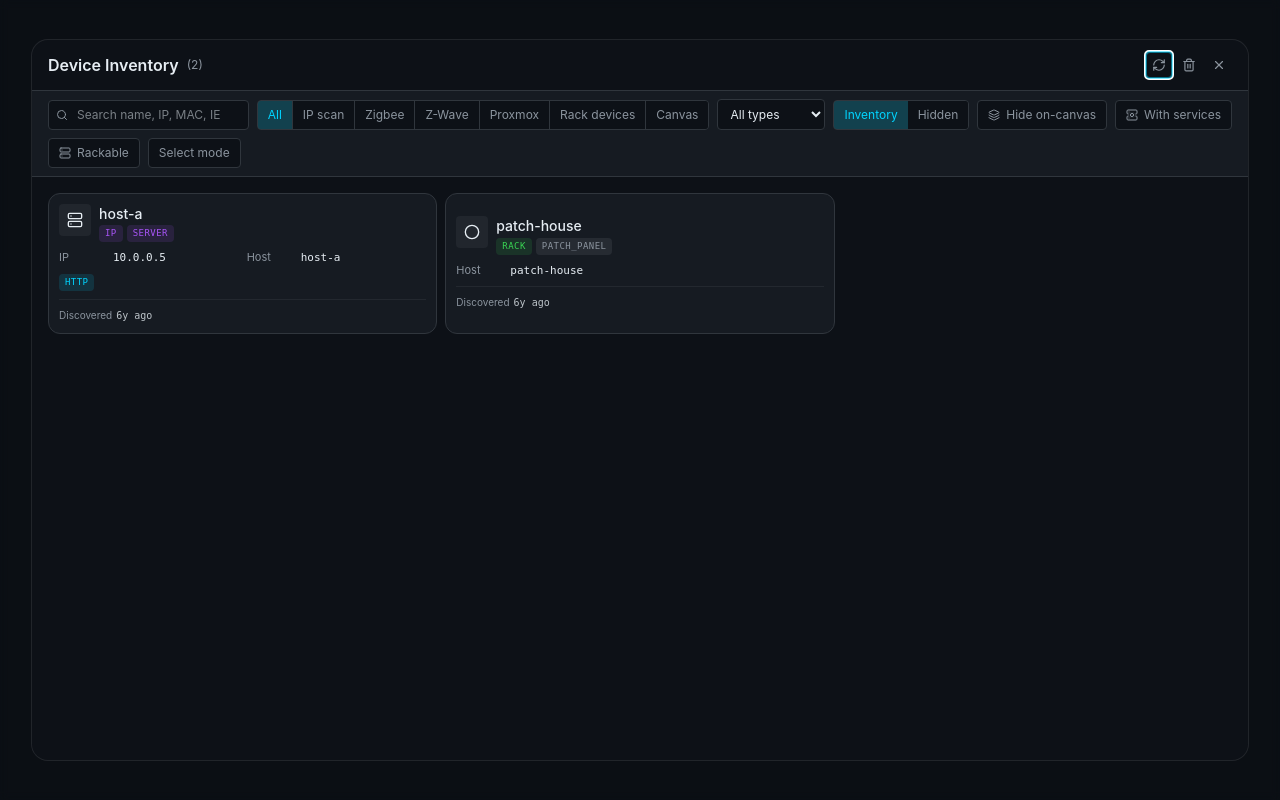
Test: PendingDevicesModal — rack devices › offers no Approve on a rack device card
Click the button with test id "pending-card-dev-rack" at {"x": 472, "y": 232}, box x1=445 y1=193 x2=835 y2=334
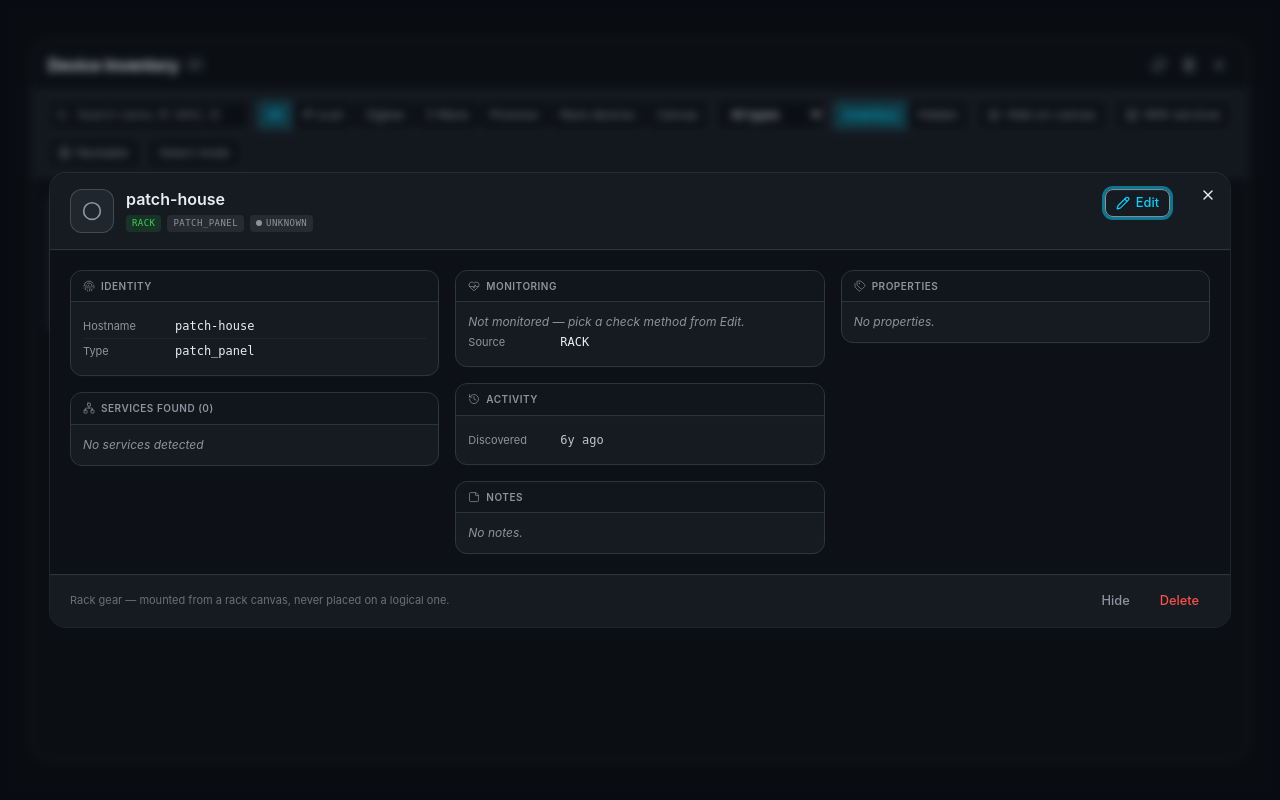
expect the button "Hide" is shown: met, box x1=1091 y1=587 x2=1141 y2=615
